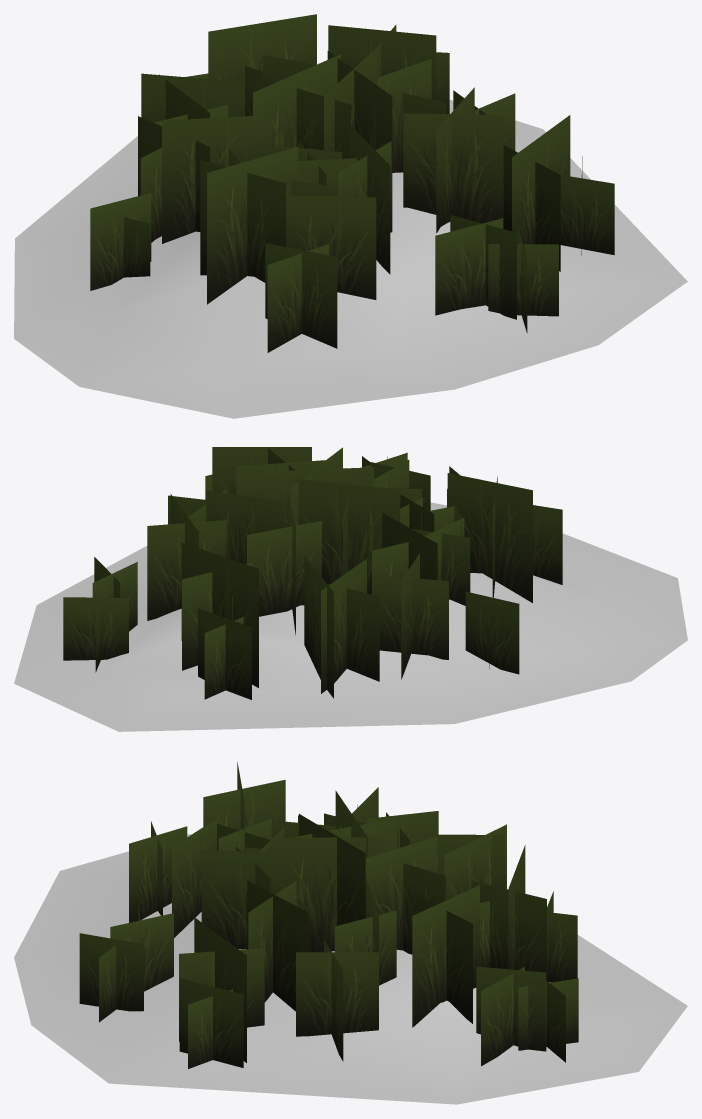
File: Soil_Grass_04.fbx
The picture shows the model from 3 angles, top to bottom: view 1: azimuth 30°, elevation 25°; view 2: azimuth 150°, elevation 25°; view 3: azimuth 270°, elevation 25°; orthographic projection. The views are drawn at different scales.
Parts seen in each view (by area): view 1: Soil_Grass_04; view 2: Soil_Grass_04; view 3: Soil_Grass_04.
Part boxes in pixels (box(x1,y1,x2,y2)): Soil_Grass_04: box(14, 14, 687, 418); Soil_Grass_04: box(14, 447, 687, 731); Soil_Grass_04: box(14, 762, 687, 1104).
Size of the model in its own units: 7.52 by 7.92 by 2.16.
